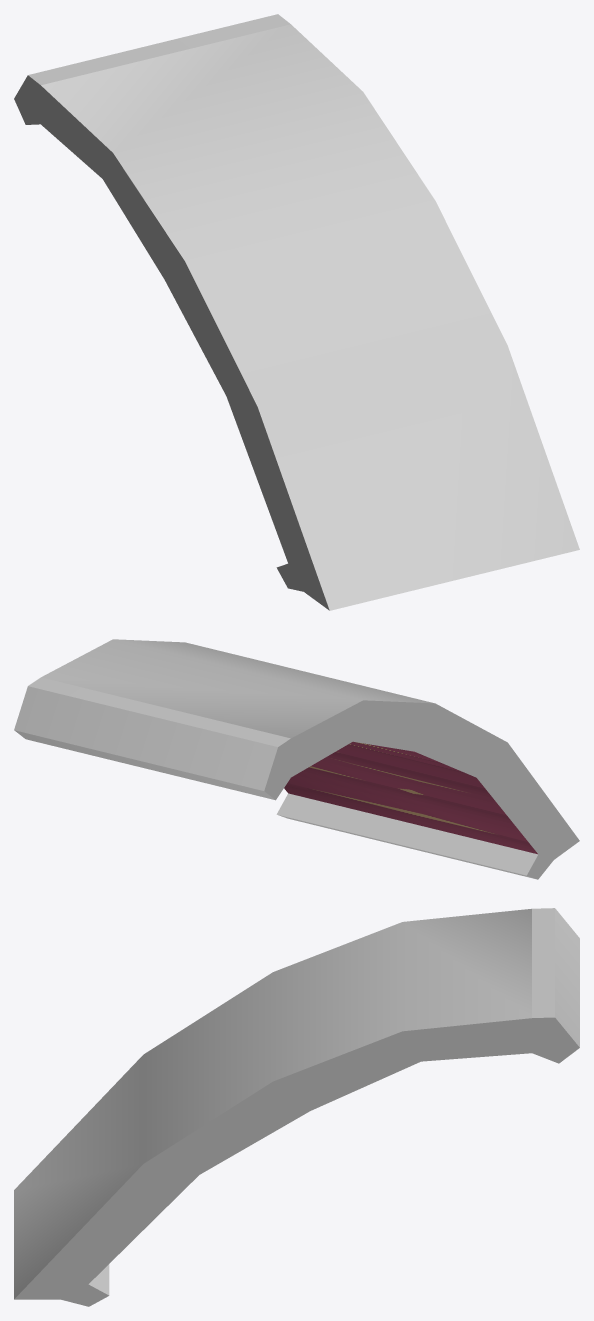
The model's file is SM_Bld_Roof_M_Convex_Half_01.fbx.
3 renders of one model, top to bottom at view 1: azimuth 30°, elevation 25°; view 2: azimuth 150°, elevation 25°; view 3: azimuth 270°, elevation 25°, orthographic. The views are drawn at different scales.
Parts seen in each view (by area): view 1: SM_Bld_Roof_M_Convex_Half_01; view 2: SM_Bld_Roof_M_Convex_Half_01; view 3: SM_Bld_Roof_M_Convex_Half_01.
Part boxes in pixels (box(x1,y1,x2,y2)): SM_Bld_Roof_M_Convex_Half_01: box(14, 14, 579, 610); SM_Bld_Roof_M_Convex_Half_01: box(14, 639, 579, 879); SM_Bld_Roof_M_Convex_Half_01: box(14, 908, 579, 1306).
Bounding box in the file's own units: 125 × 154 × 273.
